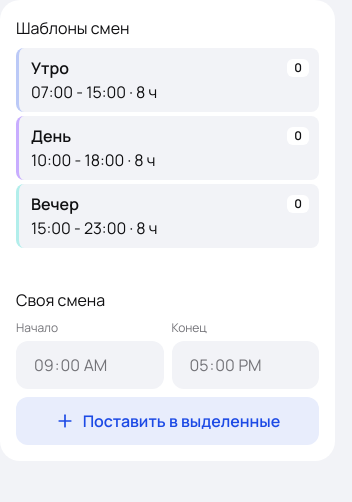
Scenario: ShiftPanel: своя смена › одинаковые начало и конец — показывает ошибку и блокирует кнопку
This screenshot has width=352, height=502.
Replace the text in the time field labelled "Конец" with "09:00" at (245, 365), box [172,341,319,389]
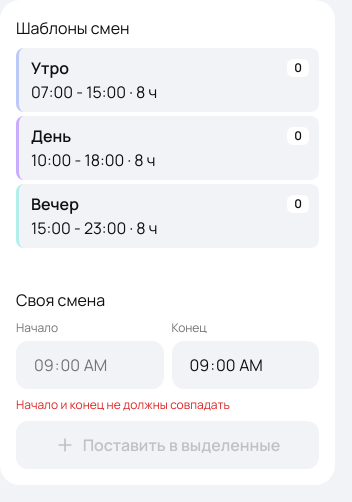
Expected: the text "Начало и конец не должны совпадать" is shown, [16,396,230,413]
Expected: the button "Поставить в выделенные" is disabled, [16,421,319,469]
